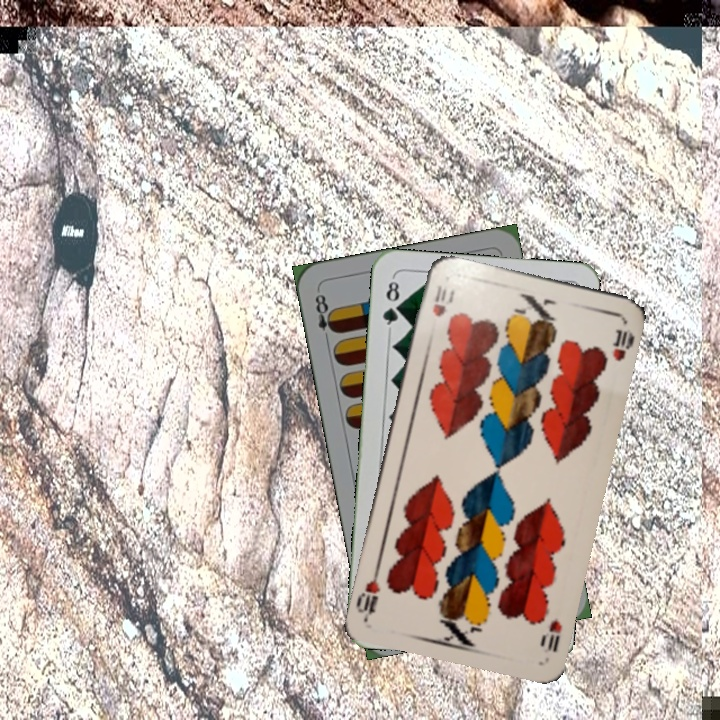E8: (311, 290, 339, 346)
G8: (378, 274, 403, 333)
H10: (536, 615, 565, 656), (428, 281, 455, 320)
